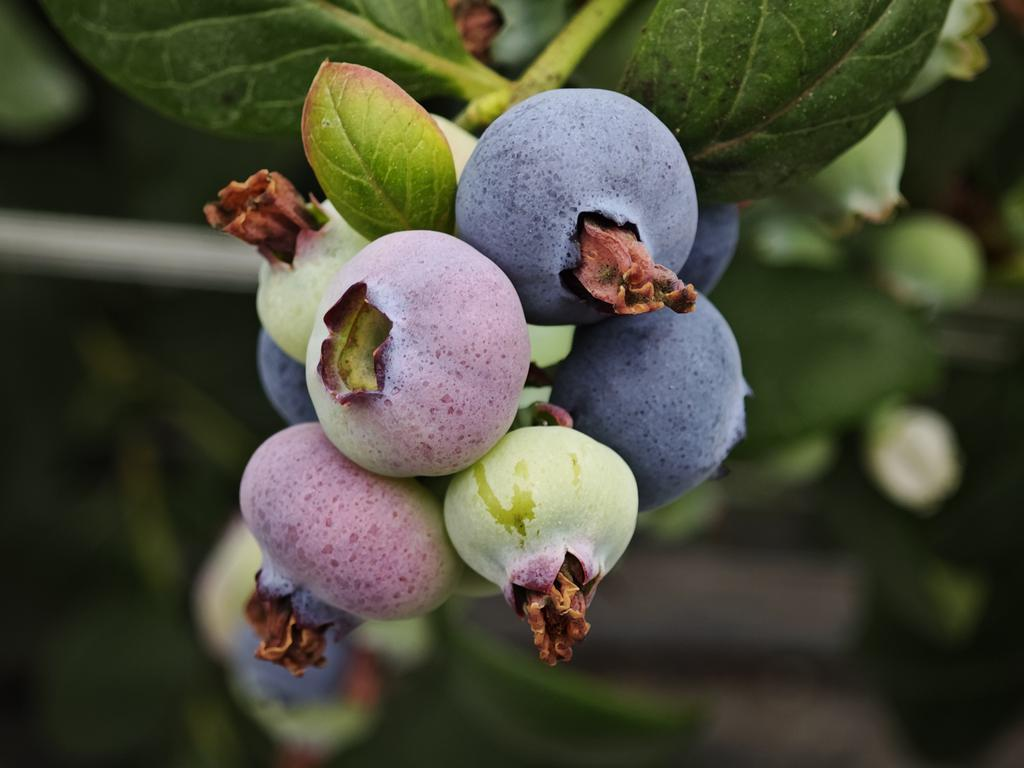RipeBlueBerry: (449, 83, 704, 328)
Semi-RipeBlueBerry: (303, 223, 532, 480), (237, 419, 462, 648)
UnripeBlueBerry: (440, 419, 641, 634)
